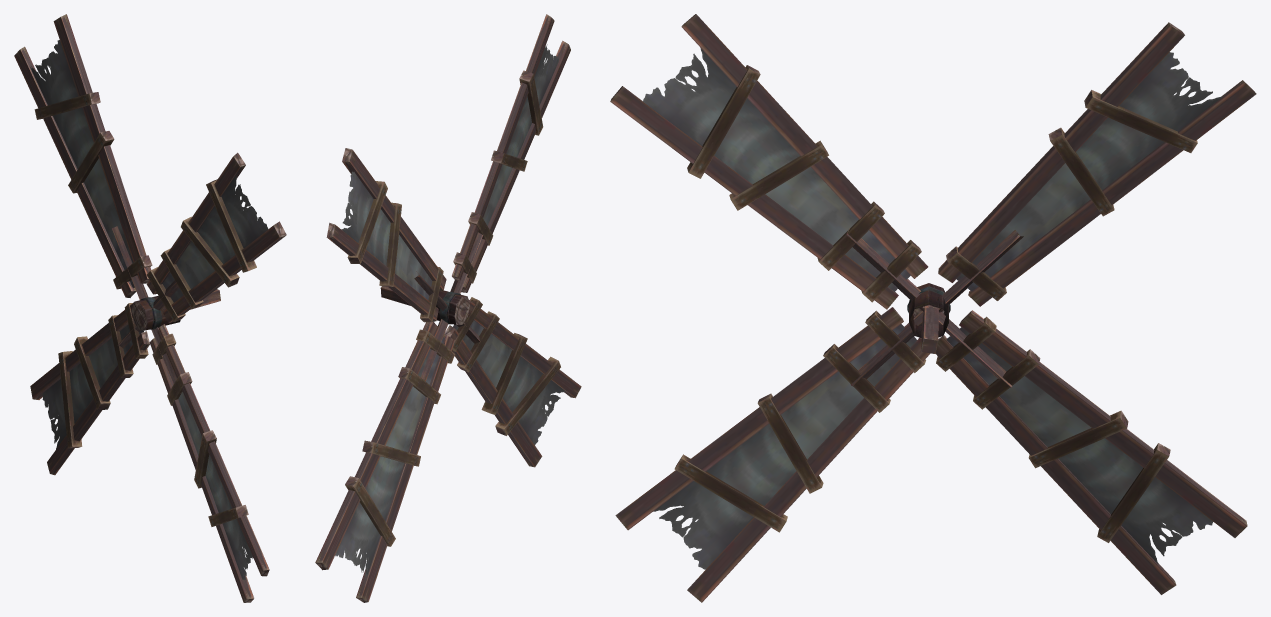
Rendered from Mill_Fan.fbx.
3 renders of one model, left to right at view 1: azimuth 30°, elevation 25°; view 2: azimuth 150°, elevation 25°; view 3: azimuth 270°, elevation 25°, orthographic. The views are drawn at different scales.
Visible parts, largest first — view 1: Mill_Fan; view 2: Mill_Fan; view 3: Mill_Fan.
Part boxes in pixels (x1,y1,x2,y2): Mill_Fan: (14, 14, 286, 602); Mill_Fan: (315, 14, 581, 602); Mill_Fan: (610, 14, 1256, 602).
Bounding box in the file's own units: 6.42 × 35.52 × 35.81.
